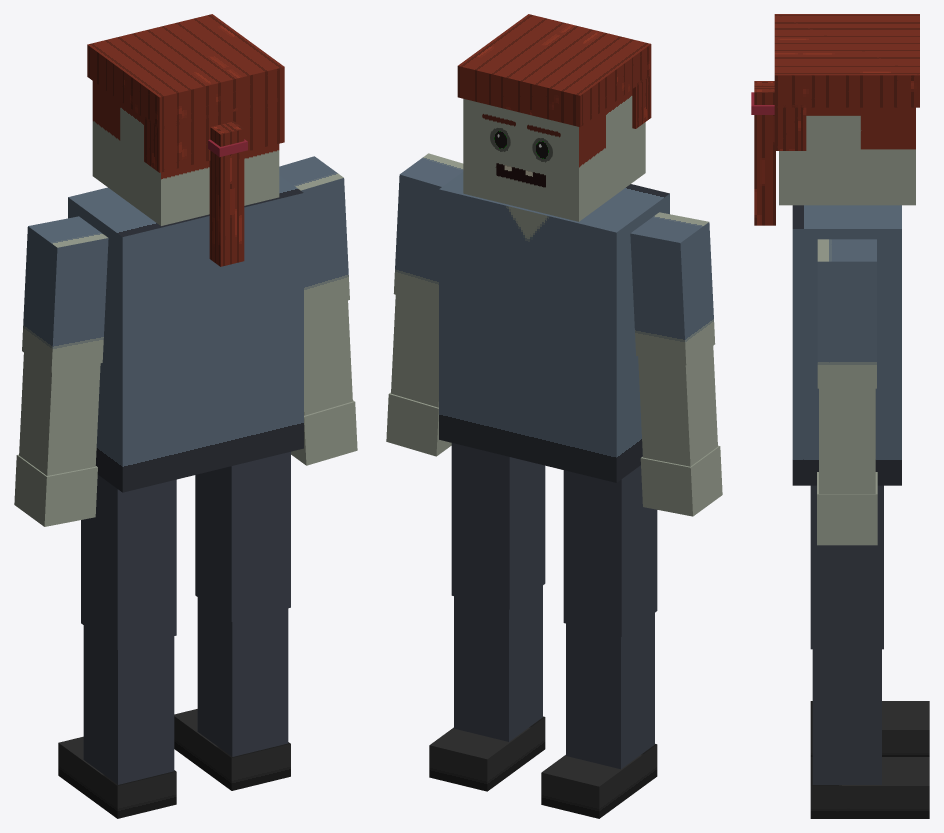
Rendered from hair_ponytail.glb.
3 renders of one model, left to right at view 1: azimuth 30°, elevation 25°; view 2: azimuth 150°, elevation 25°; view 3: azimuth 270°, elevation 25°, orthographic. The views are drawn at different scales.
Visible parts, largest first — view 1: block_torso, block_hair-cap, block_thigh.L, block_thigh.R, block_shin.L, block_shin.R, block_upper_arm.L, block_head, block_forearm.L, block_upper_arm.R, block_hair-back, block_forearm.R (+5 smaller); view 2: block_torso, block_head, block_hair-cap, block_thigh.L, block_thigh.R, block_shin.R, block_shin.L, block_upper_arm.L, block_forearm.L, block_upper_arm.R, block_foot.R, block_foot.L (+4 smaller); view 3: block_torso, block_hair-cap, block_head, block_shin.R, block_upper_arm.R, block_thigh.R, block_forearm.R, block_foot.R, block_hand.R, block_hair-tail, block_foot.L, block_hair-back.
Part boxes in pixels (bbox=[...]): block_torso: bbox=[68, 175, 303, 492]; block_hair-cap: bbox=[87, 14, 284, 129]; block_thigh.L: bbox=[81, 475, 176, 649]; block_thigh.R: bbox=[195, 451, 290, 621]; block_shin.L: bbox=[83, 625, 174, 784]; block_shin.R: bbox=[197, 597, 288, 756]; block_upper_arm.L: bbox=[22, 216, 108, 372]; block_head: bbox=[92, 81, 279, 225]; block_forearm.L: bbox=[19, 353, 100, 475]; block_upper_arm.R: bbox=[279, 156, 349, 313]; block_hair-back: bbox=[144, 97, 284, 172]; block_forearm.R: bbox=[304, 300, 352, 415]; block_torso: bbox=[439, 172, 669, 482]; block_head: bbox=[463, 89, 645, 221]; block_hair-cap: bbox=[457, 14, 651, 127]; block_thigh.L: bbox=[563, 465, 657, 636]; block_thigh.R: bbox=[451, 443, 545, 609]; block_shin.R: bbox=[454, 585, 542, 741]; block_shin.L: bbox=[566, 613, 654, 769]; block_upper_arm.L: bbox=[630, 212, 715, 365]; block_forearm.L: bbox=[638, 346, 717, 466]; block_upper_arm.R: bbox=[393, 153, 463, 307]; block_foot.R: bbox=[429, 716, 545, 791]; block_foot.L: bbox=[541, 744, 657, 818]; block_torso: bbox=[792, 205, 901, 485]; block_hair-cap: bbox=[774, 14, 919, 107]; block_head: bbox=[779, 107, 915, 205]; block_shin.R: bbox=[812, 649, 881, 784]; block_upper_arm.R: bbox=[817, 239, 876, 388]; block_thigh.R: bbox=[810, 485, 883, 649]; block_forearm.R: bbox=[819, 388, 875, 493]; block_foot.R: bbox=[810, 757, 929, 818]; block_hand.R: bbox=[817, 472, 877, 545]; block_hair-tail: bbox=[754, 81, 775, 225]; block_foot.L: bbox=[810, 701, 929, 756]; block_hair-back: bbox=[774, 105, 806, 150].
Size of the model in its own units: 0.7948 by 1.77 by 0.39.
1 material, 1 textured.
